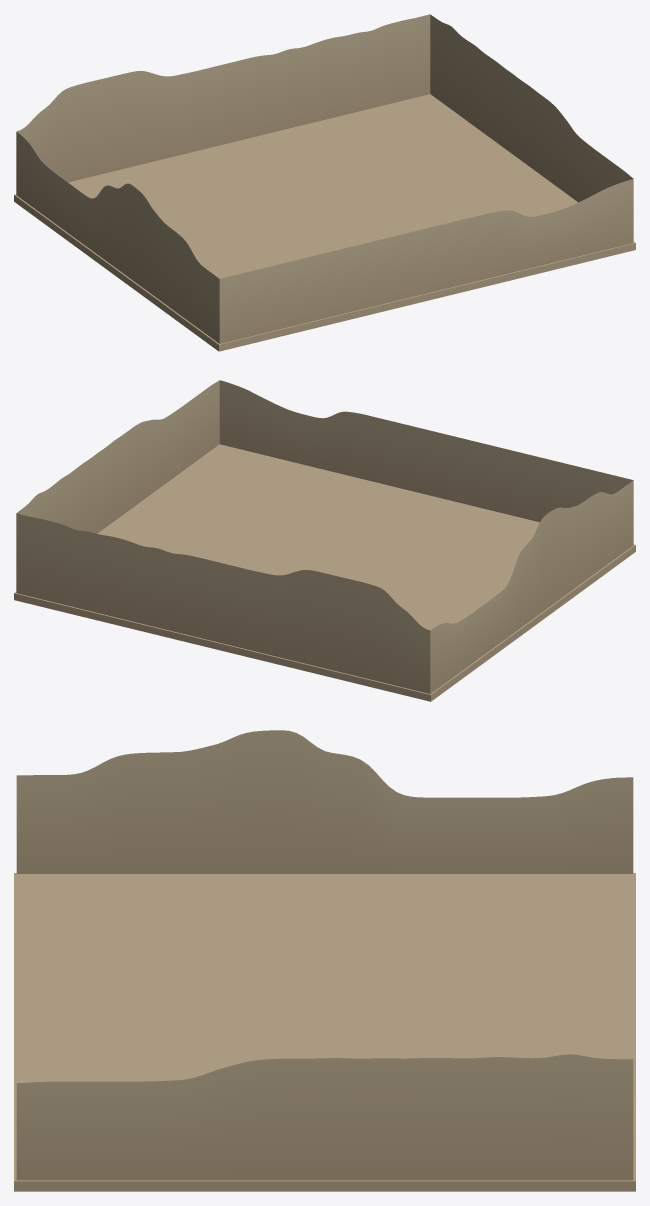
The model's file is Terrain_Cutaway.glb.
3 views of the same model, one above another, from view 1: azimuth 30°, elevation 25°; view 2: azimuth 150°, elevation 25°; view 3: azimuth 270°, elevation 25° (orthographic). The views are drawn at different scales.
Visible parts, largest first — view 1: Terrain_Cutaway; view 2: Terrain_Cutaway; view 3: Terrain_Cutaway.
Part boxes in pixels (box(x1,y1,x2,y2)): Terrain_Cutaway: box(14, 14, 635, 351); Terrain_Cutaway: box(14, 380, 635, 701); Terrain_Cutaway: box(14, 730, 635, 1191).
Size of the model in its own units: 580 by 136 by 494.
